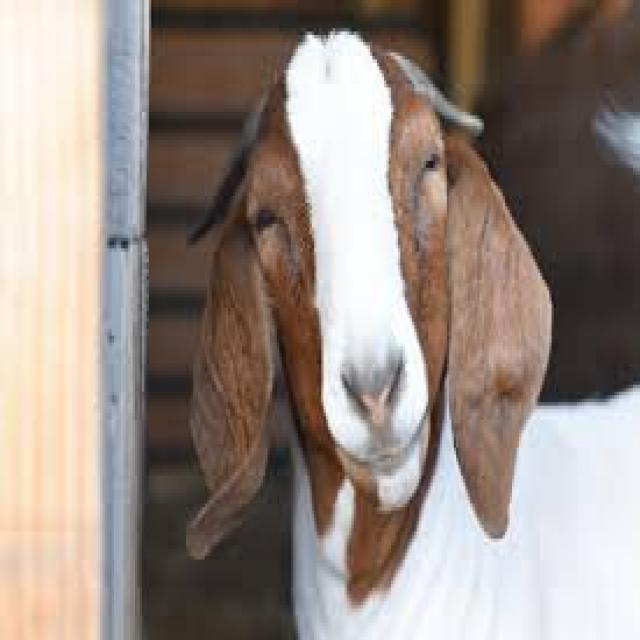Goat: (181, 23, 640, 640)
